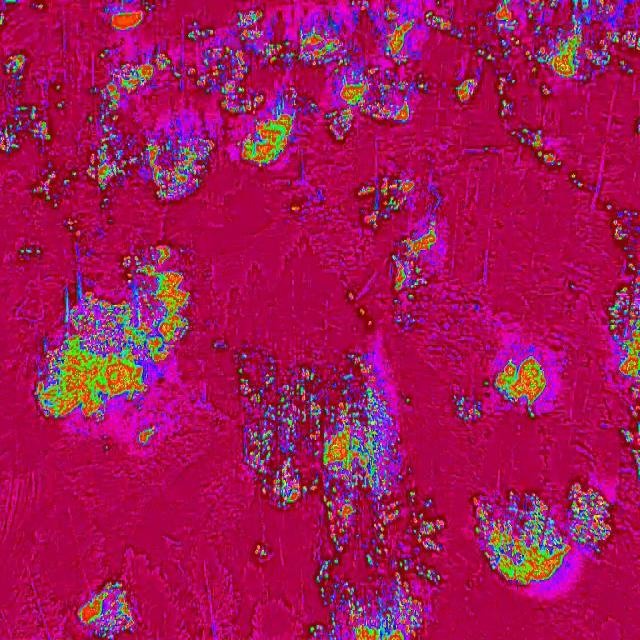fire: (30, 243, 201, 424), (237, 352, 400, 509), (292, 0, 428, 140), (304, 510, 444, 640), (478, 0, 640, 80), (471, 485, 568, 585), (238, 10, 294, 171), (389, 215, 448, 336), (137, 124, 217, 206), (86, 105, 137, 213), (88, 48, 184, 102), (188, 19, 238, 111), (567, 482, 623, 558), (606, 274, 640, 394), (76, 579, 135, 640), (496, 355, 548, 419), (355, 175, 417, 226), (0, 102, 55, 156), (509, 124, 562, 168), (32, 167, 80, 209), (618, 401, 640, 483), (614, 208, 640, 274), (102, 0, 154, 30), (426, 12, 476, 40), (451, 391, 483, 424), (493, 78, 518, 117), (4, 50, 28, 90), (135, 422, 159, 448), (61, 215, 88, 237), (457, 76, 478, 104), (568, 170, 586, 190), (540, 80, 556, 102), (252, 542, 270, 559), (212, 340, 231, 354), (342, 288, 358, 302), (31, 1, 47, 14), (356, 304, 368, 320), (481, 142, 494, 156), (566, 279, 580, 292), (288, 204, 302, 216), (408, 489, 417, 506), (482, 378, 492, 392), (2, 0, 18, 8), (423, 496, 432, 510), (364, 317, 375, 328), (0, 8, 6, 28), (403, 394, 411, 408), (18, 246, 29, 256), (102, 442, 111, 454), (634, 117, 640, 133), (54, 84, 62, 95), (56, 101, 64, 112), (434, 0, 444, 8), (605, 202, 611, 213)
